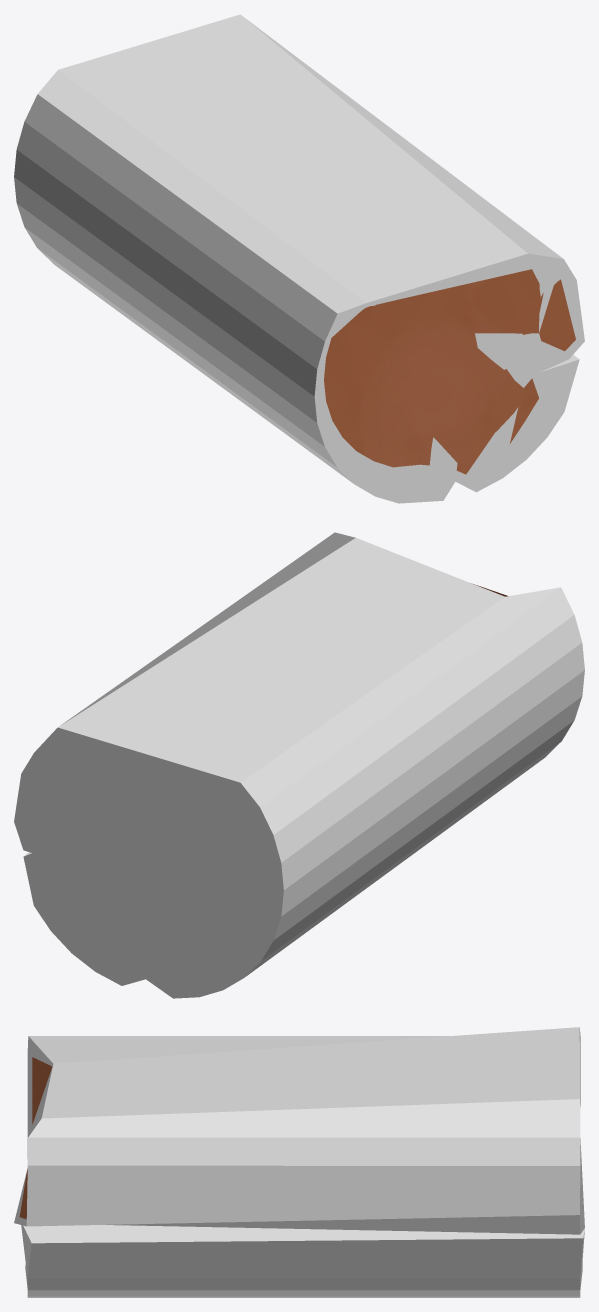
The model's file is Log1.fbx.
The picture shows the model from 3 angles, top to bottom: view 1: azimuth 30°, elevation 25°; view 2: azimuth 150°, elevation 25°; view 3: azimuth 270°, elevation 25°; orthographic projection. The views are drawn at different scales.
Parts seen in each view (by area): view 1: Cylinder; view 2: Cylinder; view 3: Cylinder.
Boxes of the visible parts, left/top/right/bottom form: Cylinder: left=14, top=14, right=584, bottom=503; Cylinder: left=14, top=532, right=584, bottom=998; Cylinder: left=14, top=1027, right=584, bottom=1297.
Bounding box in the file's own units: 43.52 × 37.4 × 86.73.
2 materials, 1 textured.
